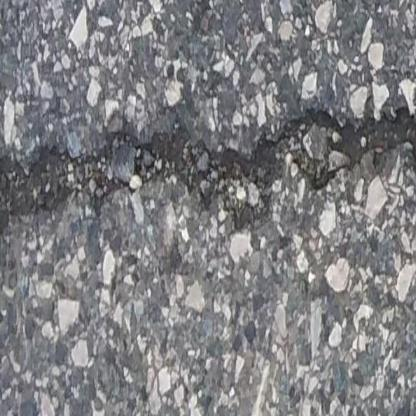Cracks: (0, 107, 416, 236)
